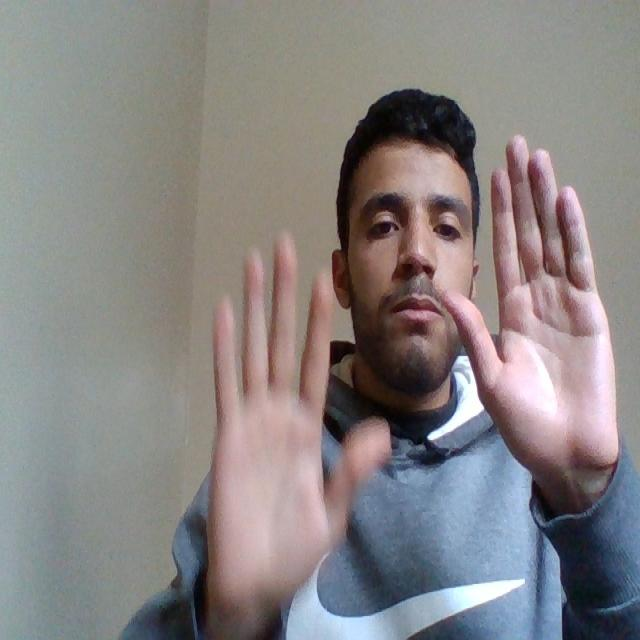Hello: (198, 131, 626, 624)
